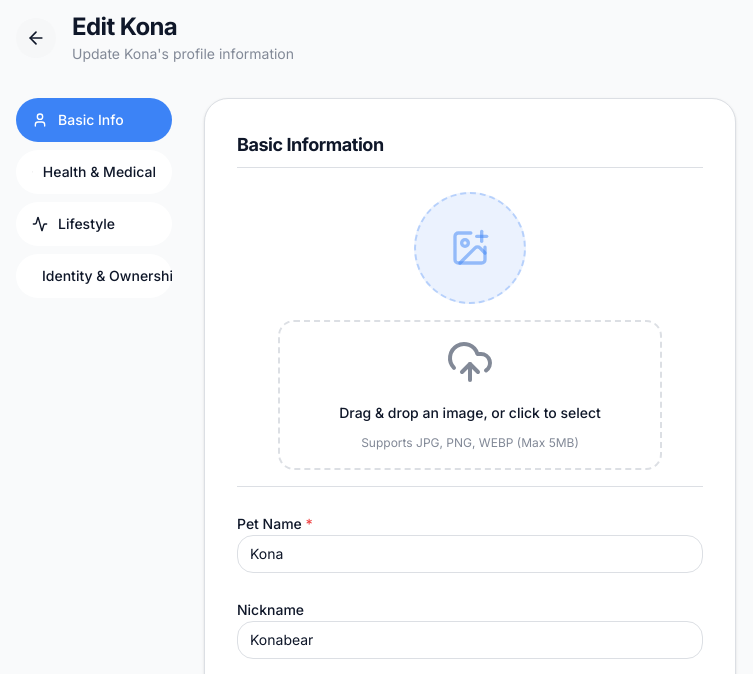
Scenario: EditPetPage Component › allows navigating between tabs
Click the button "Health & Medical".
click(94, 172)  # box top-left (16, 150), bottom-right (172, 194)
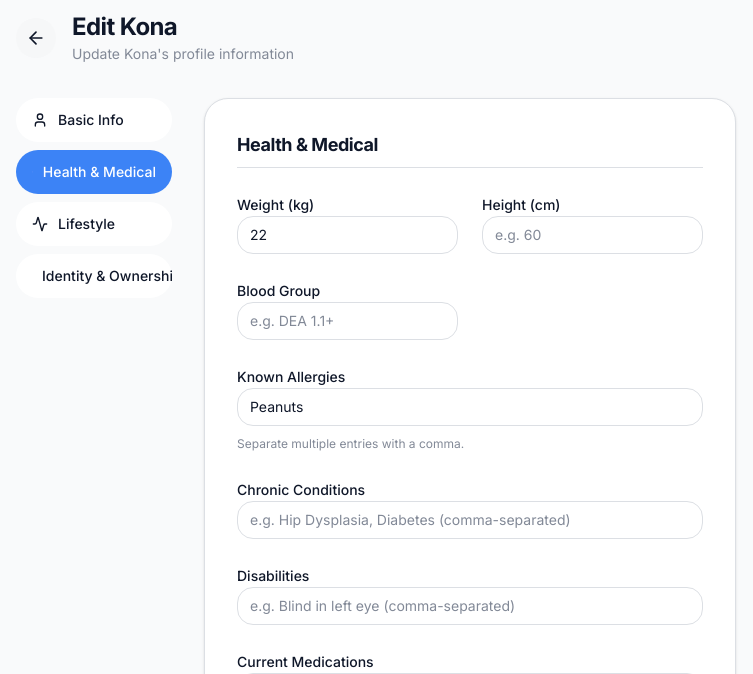
expect the heading "Health & Medical" is shown: met, box top-left (237, 131), bottom-right (703, 168)
expect the number field showing "22" is shown: met, box top-left (237, 216), bottom-right (458, 254)
Click the button "Lifestyle".
click(94, 224)  # box top-left (16, 202), bottom-right (172, 246)
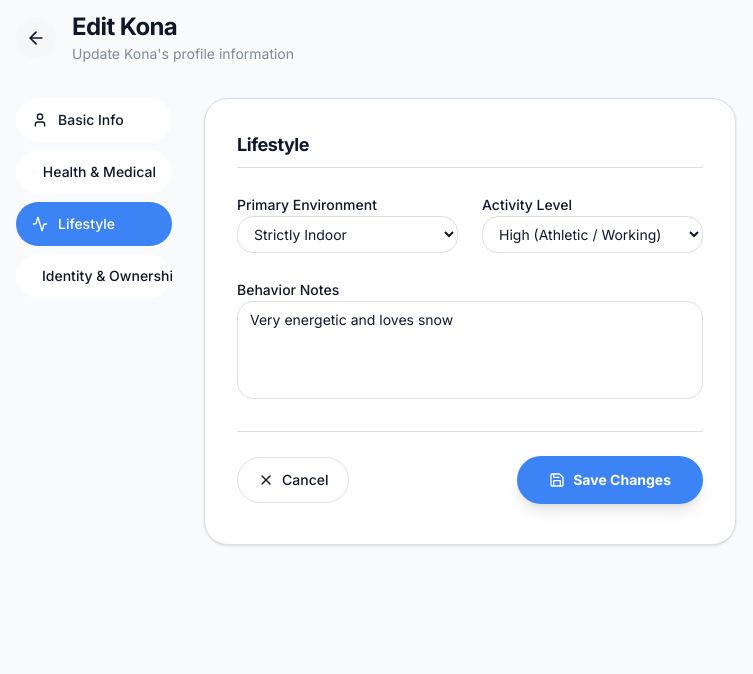
expect the heading "Lifestyle" is shown: met, box top-left (237, 131), bottom-right (703, 168)
expect the text box showing "Very energetic and loves snow" is shown: met, box top-left (237, 301), bottom-right (703, 399)
